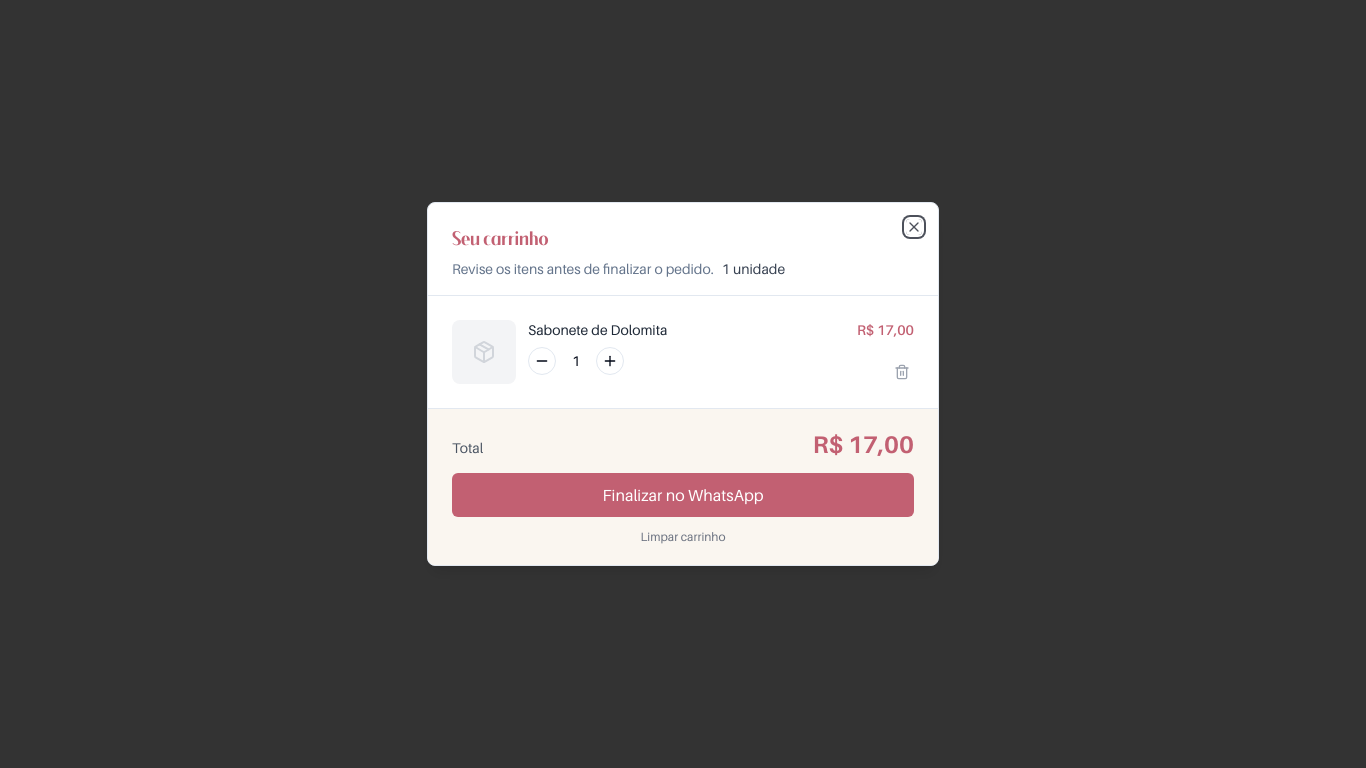
Scenario: CarrinhoModal — ajustes › − com qtd 1 (chega a 0) remove o item e volta ao estado vazio
The width and height of the screenshot is (1366, 768).
Click the button named "diminuir" at (542, 361), box [528,347,556,375]
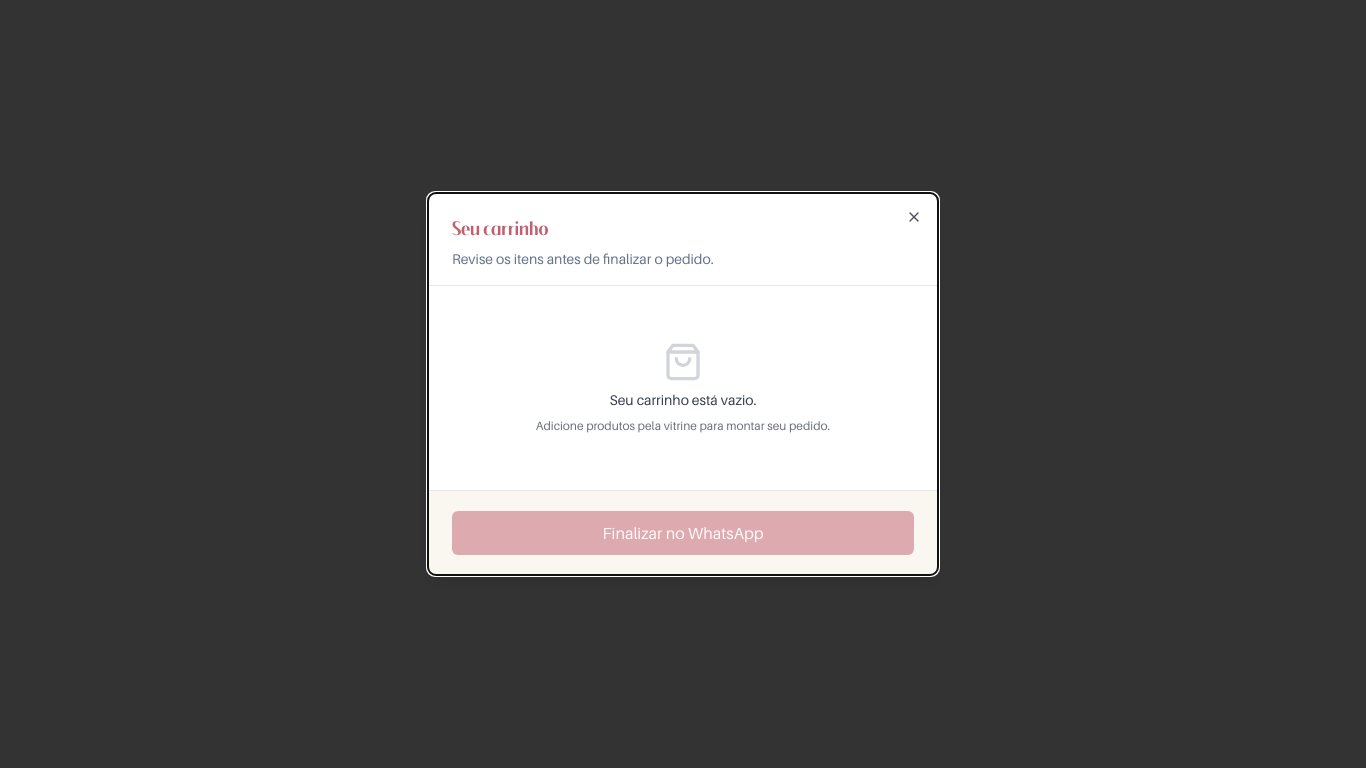
Expected: the list item with test id "item-SAB08" is gone
Expected: the text "Seu carrinho está vazio." is shown, [609,390,756,410]
Expected: the button "Finalizar no WhatsApp" is disabled, [452,511,914,555]
